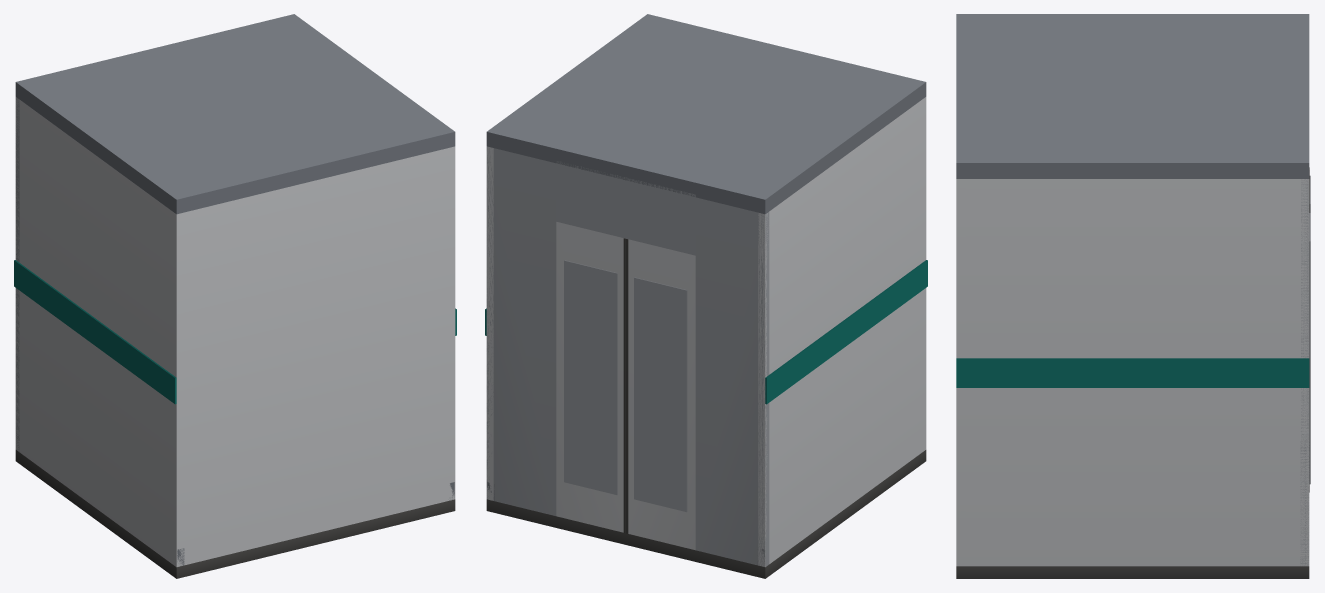
File: elevator_car_01.glb
The picture shows the model from 3 angles, left to right: view 1: azimuth 30°, elevation 25°; view 2: azimuth 150°, elevation 25°; view 3: azimuth 270°, elevation 25°; orthographic projection. The views are drawn at different scales.
Visible parts, largest first — view 1: elevator_car_01_mesh; view 2: elevator_car_01_mesh, elevator_car_01_door_l_mesh, elevator_car_01_door_r_mesh; view 3: elevator_car_01_mesh, elevator_car_01_door_r_mesh.
Part boxes in pixels (box(x1,y1,x2,y2)): elevator_car_01_mesh: box(14, 14, 456, 578); elevator_car_01_mesh: box(485, 14, 927, 578); elevator_car_01_door_l_mesh: box(626, 239, 695, 550); elevator_car_01_door_r_mesh: box(556, 222, 625, 533); elevator_car_01_mesh: box(956, 14, 1309, 578); elevator_car_01_door_r_mesh: box(1309, 169, 1310, 492).
Size of the model in its own units: 2.02 by 2.6 by 2.01.
Materials: 2 (2 with a texture image).
